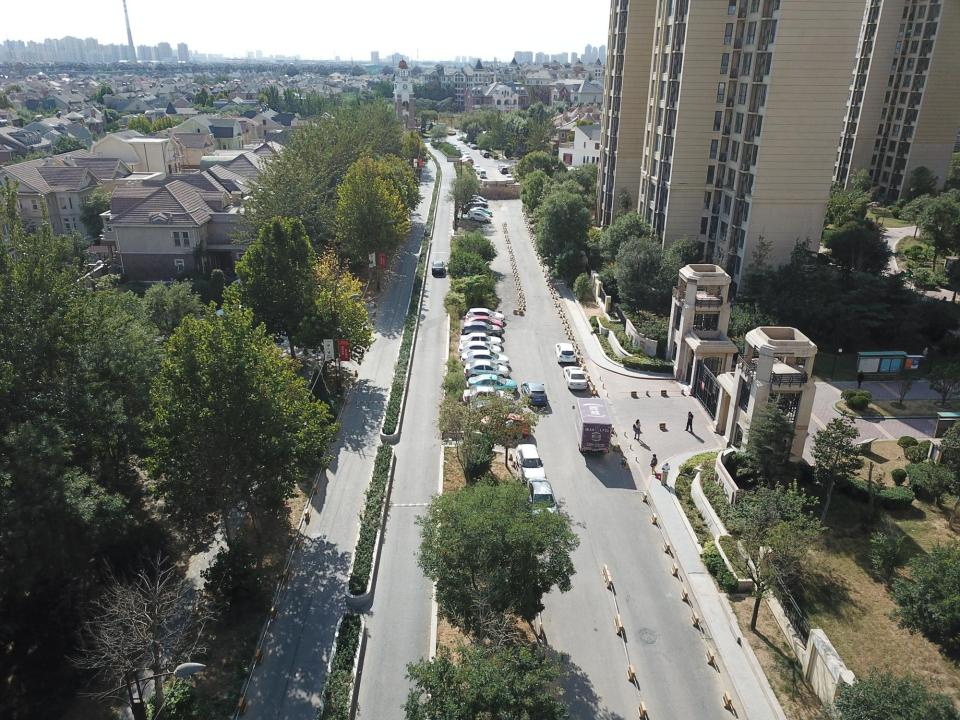car: (525, 477, 561, 532), (464, 399, 524, 425), (515, 443, 548, 490), (477, 413, 532, 439), (466, 373, 518, 396), (462, 386, 514, 407), (461, 349, 510, 368), (463, 360, 510, 379), (457, 340, 502, 358), (459, 320, 503, 338), (459, 332, 502, 349), (520, 381, 548, 406), (463, 315, 504, 331), (464, 308, 506, 323), (563, 366, 588, 391), (555, 342, 577, 364), (467, 211, 492, 223), (469, 206, 492, 217), (466, 210, 490, 220), (430, 261, 446, 275), (464, 199, 488, 208), (464, 197, 488, 205), (464, 195, 485, 202), (456, 156, 472, 164), (459, 158, 474, 166), (504, 174, 513, 182), (500, 166, 508, 174), (482, 151, 490, 158), (454, 125, 464, 130), (498, 164, 506, 170), (474, 164, 480, 172), (480, 150, 487, 156), (464, 151, 470, 158), (457, 136, 467, 140), (476, 168, 482, 174), (460, 150, 466, 156), (452, 143, 458, 149), (470, 144, 477, 149), (466, 142, 473, 147), (455, 146, 461, 151), (448, 142, 454, 146)
truck: (572, 398, 613, 456)
van: (462, 202, 484, 214), (420, 122, 432, 128), (480, 169, 486, 178), (435, 124, 447, 128)
